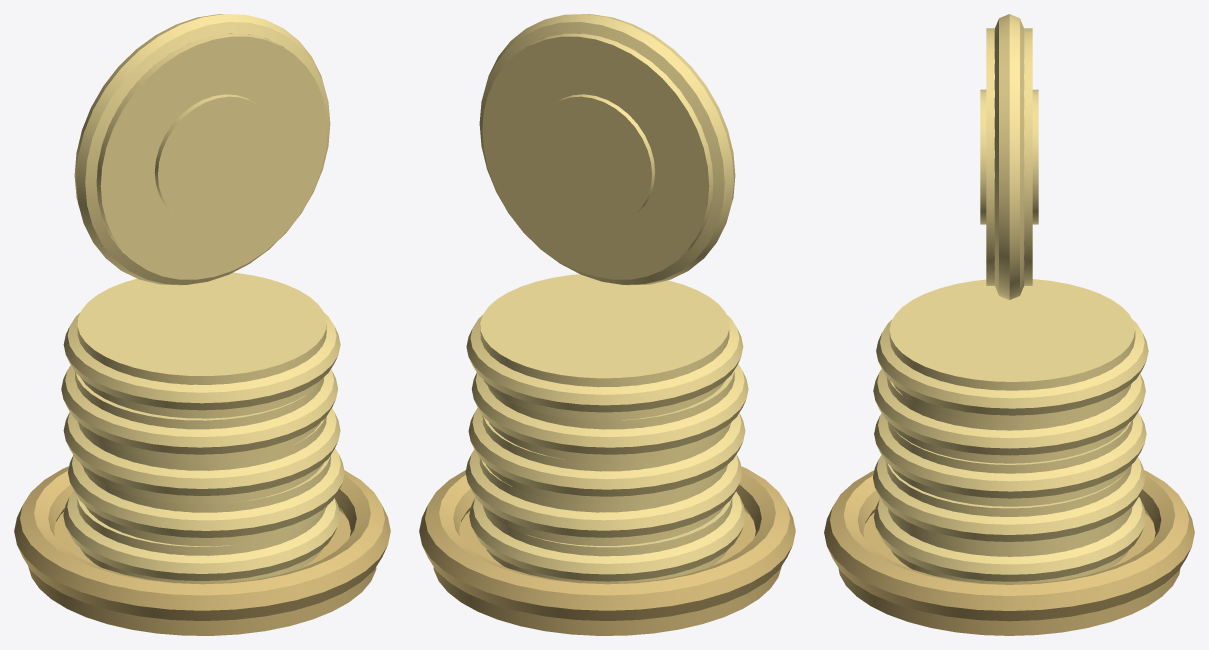
The model's file is Gold.glb.
3 renders of one model, left to right at view 1: azimuth 30°, elevation 25°; view 2: azimuth 150°, elevation 25°; view 3: azimuth 270°, elevation 25°, orthographic.
Visible parts, largest first — view 1: coins, emitter, pedestal; view 2: coins, emitter, pedestal; view 3: coins, pedestal, emitter.
Boxes of the visible parts, x1=… form: coins: x1=61, y1=272, x2=344, y2=583; emitter: x1=74, y1=14, x2=330, y2=285; pedestal: x1=14, y1=466, x2=390, y2=635; coins: x1=465, y1=274, x2=748, y2=583; emitter: x1=479, y1=14, x2=735, y2=285; pedestal: x1=419, y1=466, x2=795, y2=635; coins: x1=873, y1=279, x2=1148, y2=584; pedestal: x1=824, y1=470, x2=1194, y2=635; emitter: x1=980, y1=14, x2=1038, y2=299.
Size of the model in its own units: 0.604 by 0.964 by 0.604.
